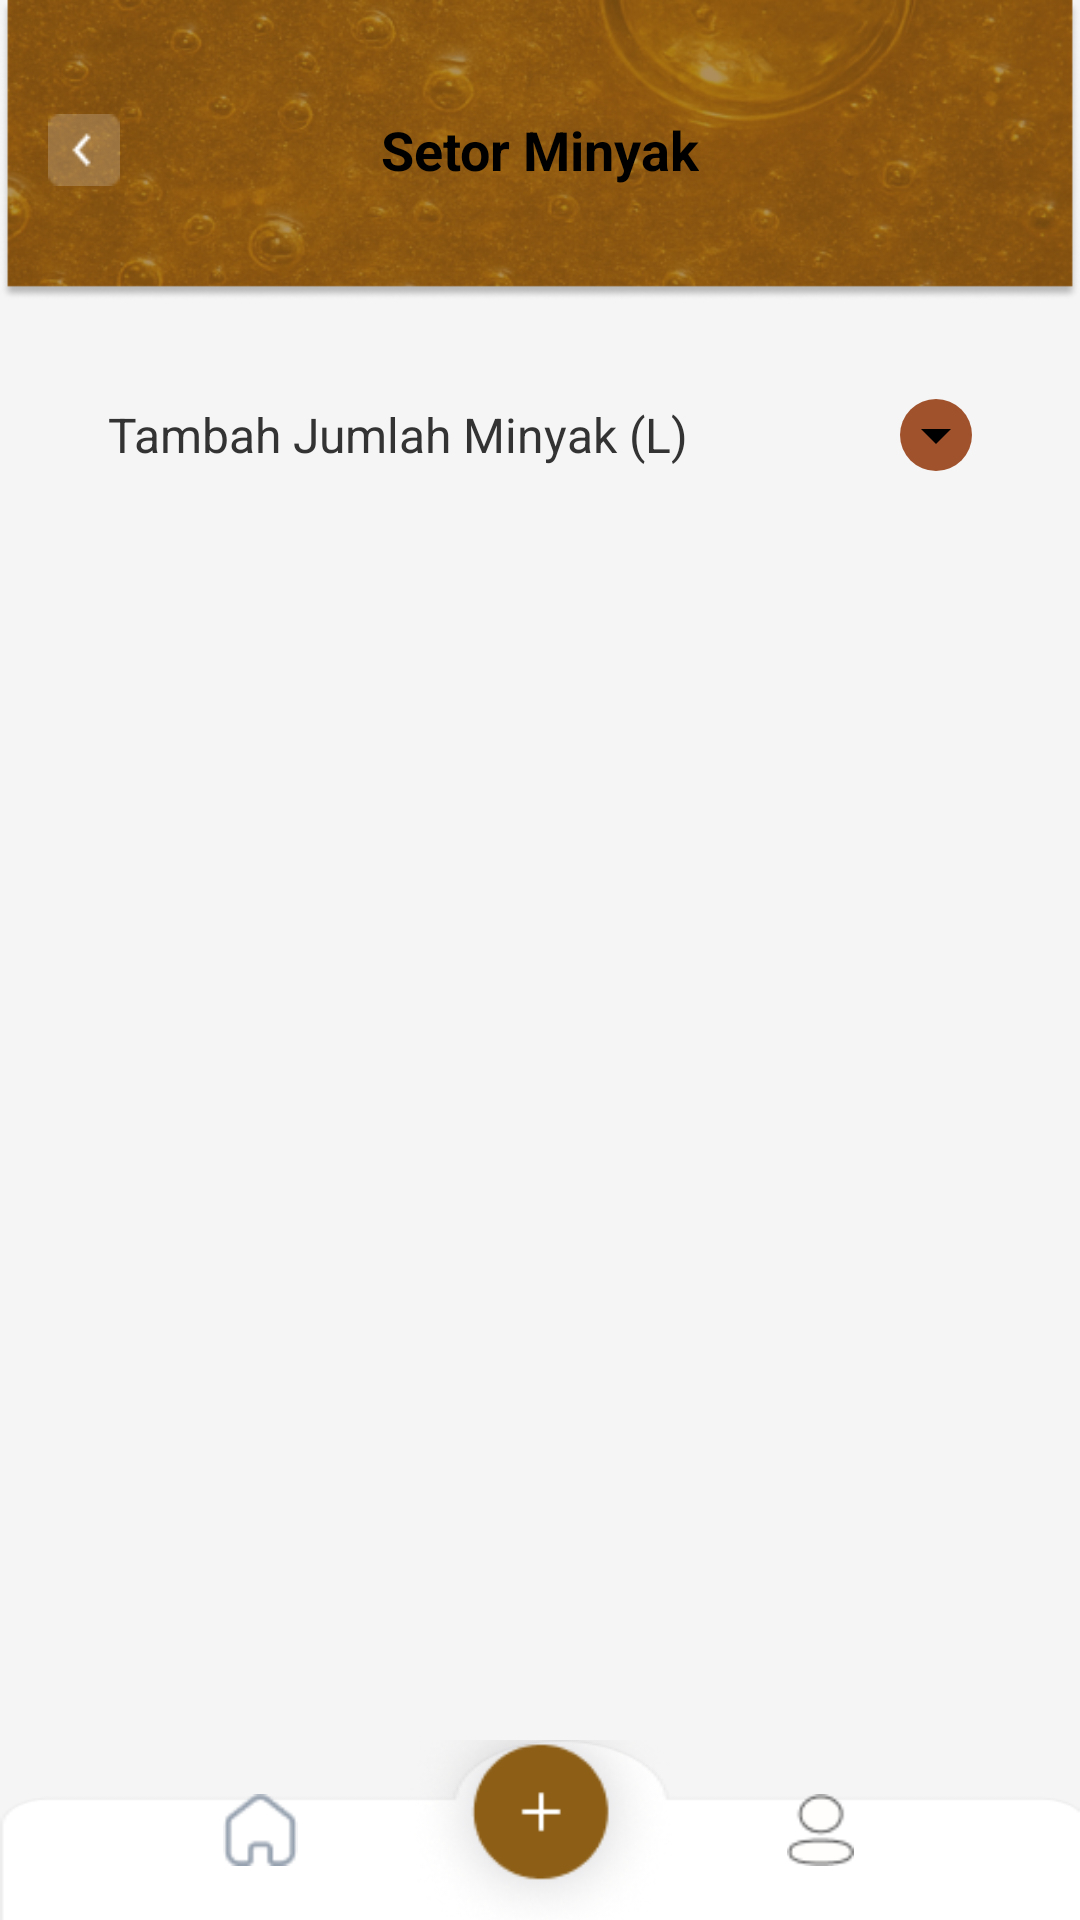

Icons on this 1080w x 1920h Android screen, each with its box as (x1, y1, x2, y2):
arrow drop down: (900, 399, 972, 471)
Back: (48, 114, 120, 186)
home: (225, 1794, 296, 1866)
profile: (787, 1794, 854, 1866)
